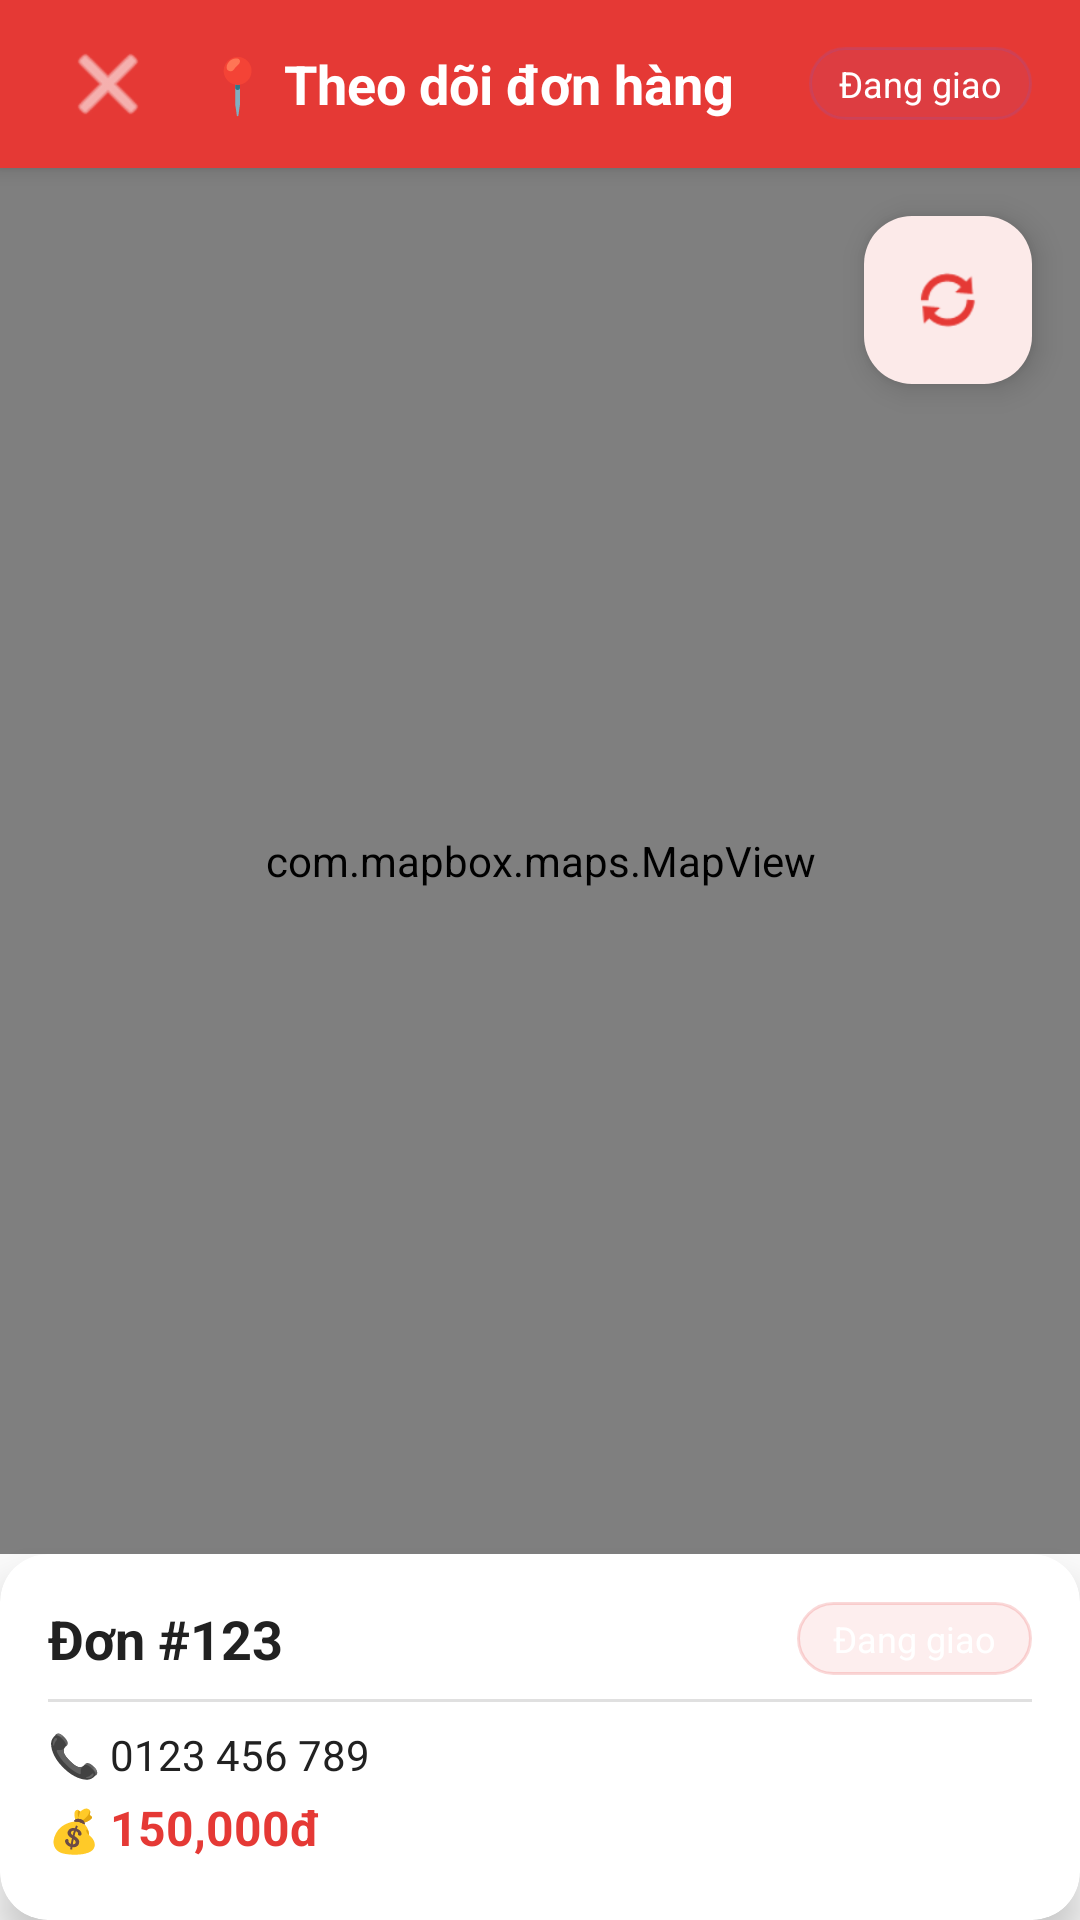

Locate icon controls on the screen. Image size 1080*1920, boxes as (x1, y1, x2, y2).
Làm mới: (864, 216, 1032, 384)
